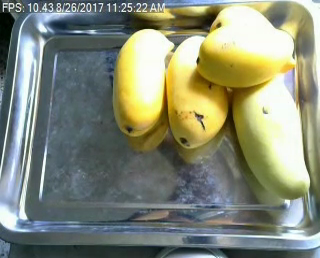Mango: (233, 77, 311, 200), (166, 35, 229, 147), (111, 28, 171, 135), (196, 27, 295, 87), (213, 5, 295, 74)
